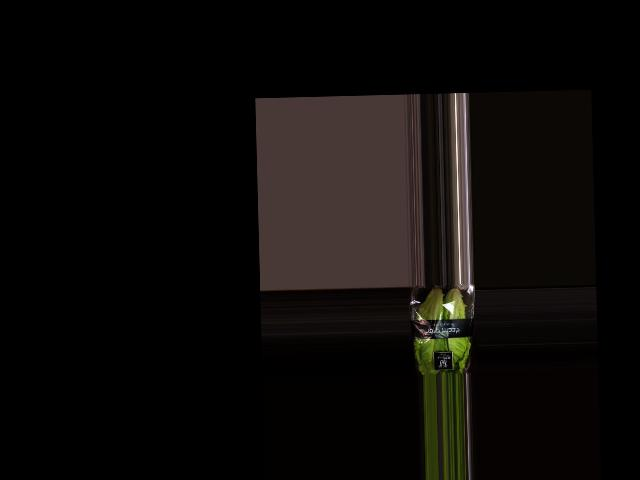lettuce: (413, 283, 476, 374)
